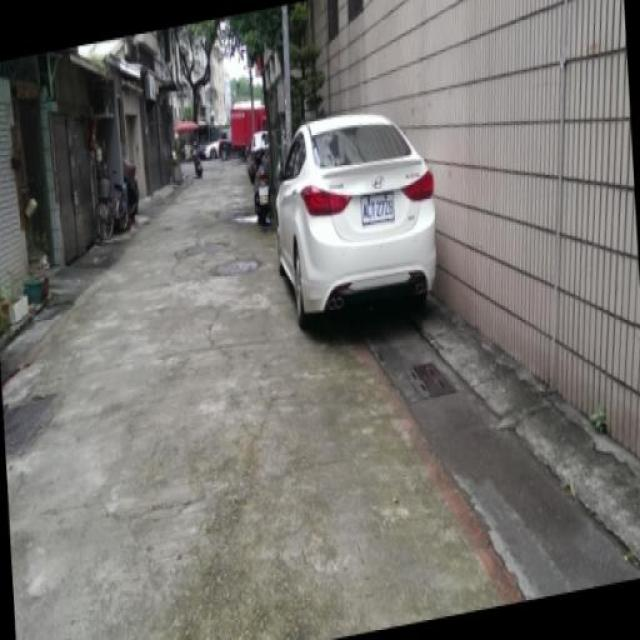Legalparking: (264, 94, 461, 344)
